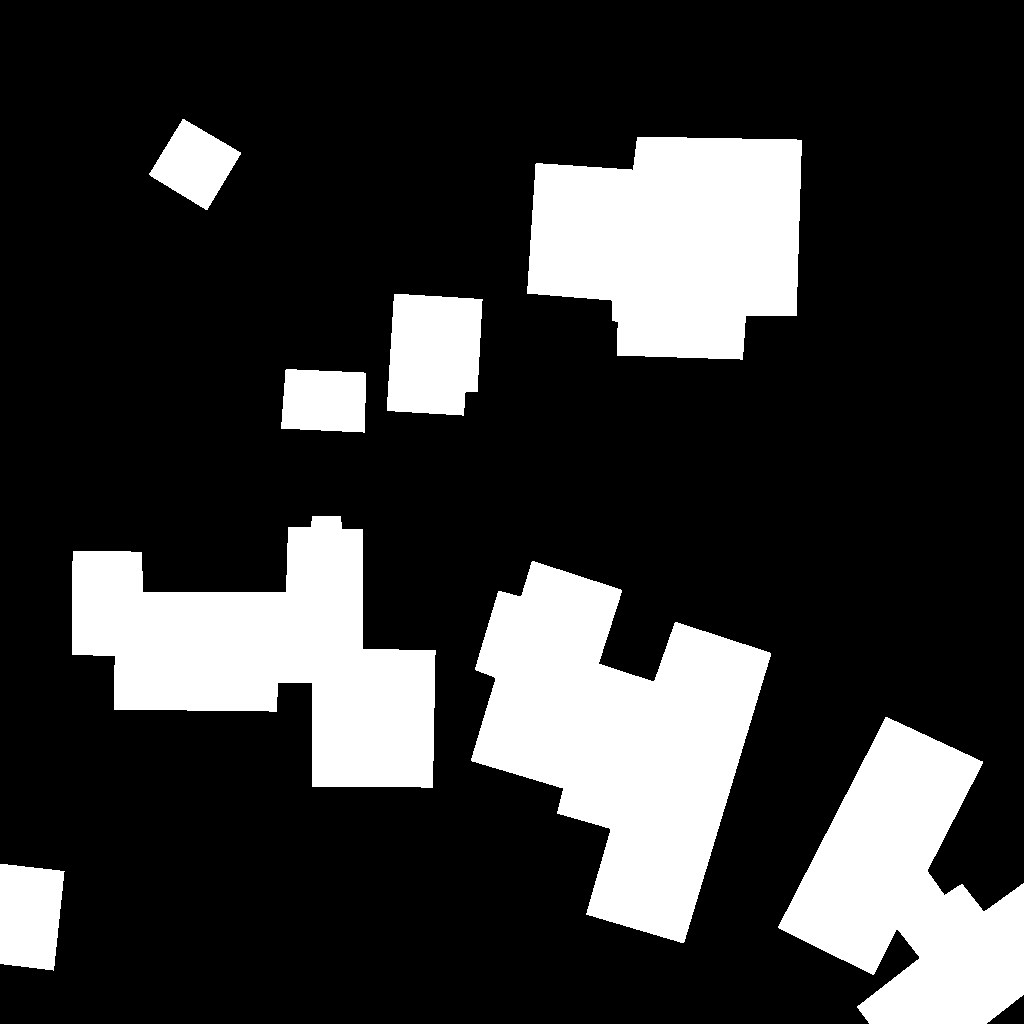building: (471, 561, 772, 944), (72, 516, 436, 788), (778, 717, 1024, 1024), (527, 137, 803, 360), (387, 294, 483, 416), (149, 119, 242, 211), (0, 864, 65, 971), (281, 369, 367, 433)
